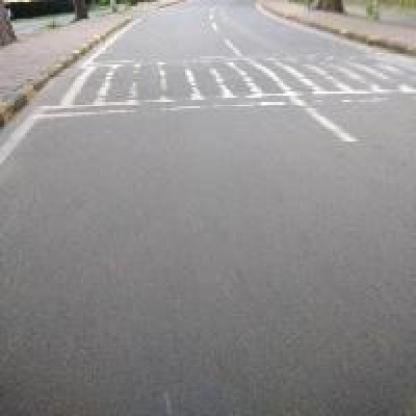Speed Bump: (37, 48, 414, 116)
